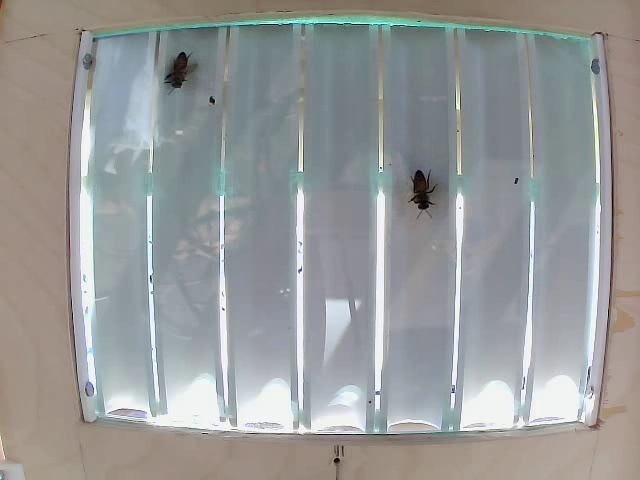bee: (400, 158, 448, 227), (156, 51, 204, 106)
